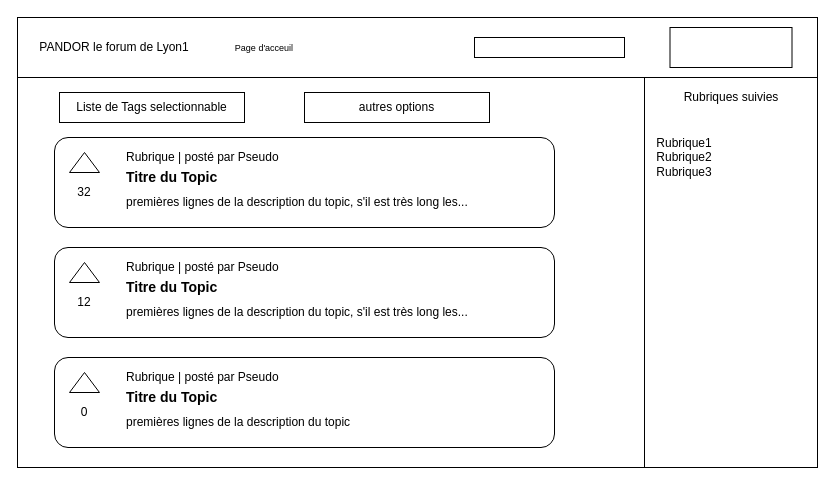
Some shapes in this 835 by 485 pixel diagram are drawn without their labels. Each missing label, with the centre of its shape:
"Compte" belongs at (x=730, y=47).
"Rechercher" belongs at (x=549, y=47).
